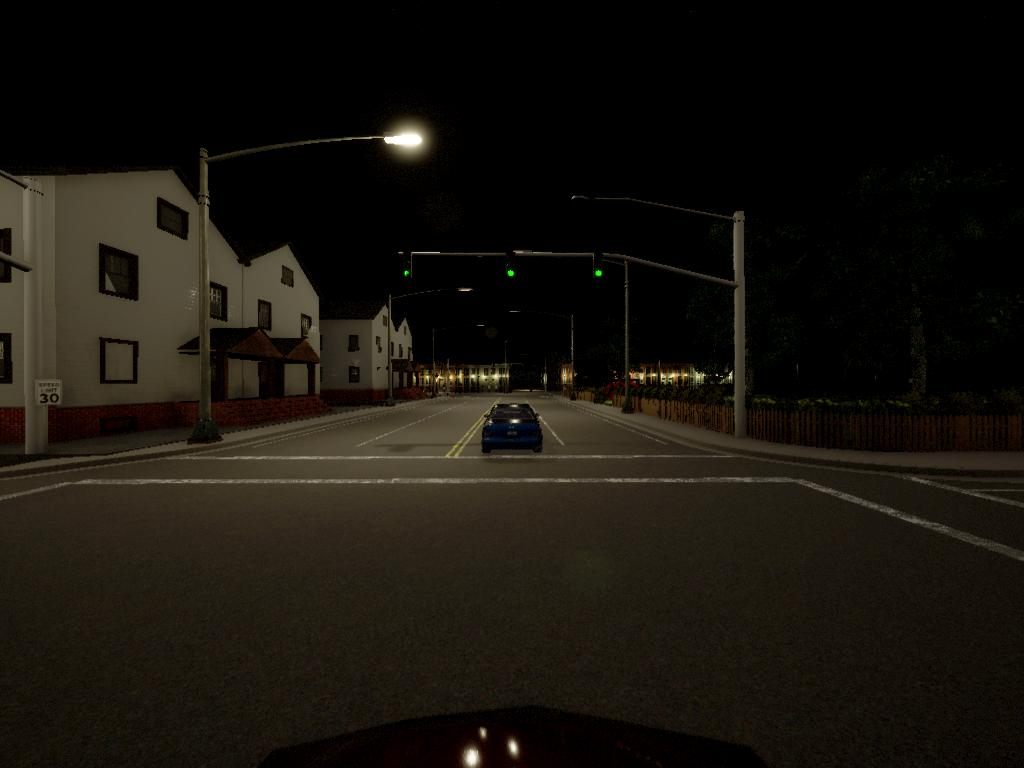traffic_light: (397, 254, 412, 283), (593, 270, 607, 282), (506, 269, 518, 282)
